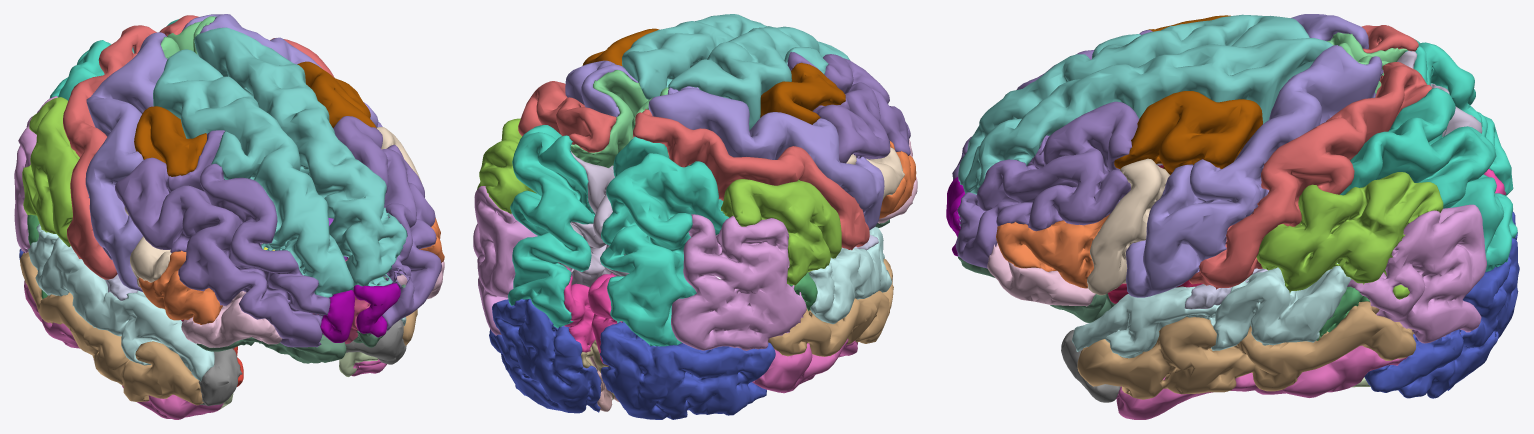
The model's file is cortex.lod1.glb.
3 renders of one model, left to right at view 1: azimuth 30°, elevation 25°; view 2: azimuth 150°, elevation 25°; view 3: azimuth 270°, elevation 25°, orthographic. The views are drawn at different scales.
Parts seen in each view (by area): view 1: anterior-part-of-middle-frontal-gyrus-r, superior-frontal-gyrus-r, superior-frontal-gyrus-l, precentral-gyrus-r, superior-temporal-gyrus-r, anterior-part-of-middle-frontal-gyrus-l, middle-temporal-gyrus-r, postcentral-gyrus-r, supramarginal-gyrus-r, posterior-part-of-middle-frontal-gyrus-r, triangular-part-of-inferior-frontal-gyrus-r, orbital-part-of-inferior-frontal-gyrus-r (+16 smaller); view 2: superior-parietal-lobule-r, inferior-parietal-lobule-r, superior-parietal-lobule-l, lateral-occipital-gyrus-r, precentral-gyrus-r, lateral-occipital-gyrus-l, postcentral-gyrus-r, superior-frontal-gyrus-r, supramarginal-gyrus-r, anterior-part-of-middle-frontal-gyrus-r, superior-frontal-gyrus-l, inferior-parietal-lobule-l (+16 smaller); view 3: precentral-gyrus-l, superior-frontal-gyrus-l, middle-temporal-gyrus-l, anterior-part-of-middle-frontal-gyrus-l, postcentral-gyrus-l, supramarginal-gyrus-l, superior-temporal-gyrus-l, superior-parietal-lobule-l, inferior-parietal-lobule-l, superior-frontal-gyrus-r, lateral-occipital-gyrus-l, posterior-part-of-middle-frontal-gyrus-l (+13 smaller).
Boxes of the visible parts, x1,y1,x2,y2 form: anterior-part-of-middle-frontal-gyrus-r: (115, 130, 330, 347); superior-frontal-gyrus-r: (153, 49, 353, 297); superior-frontal-gyrus-l: (194, 27, 407, 286); precentral-gyrus-r: (85, 32, 167, 291); superior-temporal-gyrus-r: (28, 224, 214, 381); anterior-part-of-middle-frontal-gyrus-l: (333, 116, 441, 330); middle-temporal-gyrus-r: (20, 252, 203, 405); postcentral-gyrus-r: (63, 25, 156, 279); supramarginal-gyrus-r: (22, 97, 79, 246); posterior-part-of-middle-frontal-gyrus-r: (134, 106, 206, 176); triangular-part-of-inferior-frontal-gyrus-r: (138, 250, 222, 324); orbital-part-of-inferior-frontal-gyrus-r: (181, 291, 282, 347); superior-parietal-lobule-r: (600, 136, 728, 346); inferior-parietal-lobule-r: (671, 214, 807, 350); superior-parietal-lobule-l: (508, 125, 595, 328); lateral-occipital-gyrus-r: (600, 321, 775, 419); precentral-gyrus-r: (648, 86, 884, 230); lateral-occipital-gyrus-l: (489, 299, 601, 413); postcentral-gyrus-r: (633, 109, 869, 250); superior-frontal-gyrus-r: (668, 26, 850, 130); supramarginal-gyrus-r: (721, 179, 841, 285); anterior-part-of-middle-frontal-gyrus-r: (787, 52, 910, 163); superior-frontal-gyrus-l: (622, 14, 767, 99); inferior-parietal-lobule-l: (473, 186, 537, 335); precentral-gyrus-l: (1126, 45, 1383, 297); superior-frontal-gyrus-l: (962, 38, 1333, 194); middle-temporal-gyrus-l: (1077, 301, 1416, 399); anterior-part-of-middle-frontal-gyrus-l: (955, 101, 1139, 268); postcentral-gyrus-l: (1189, 62, 1432, 289); supramarginal-gyrus-l: (1256, 172, 1443, 299); superior-temporal-gyrus-l: (1072, 263, 1351, 358); superior-parietal-lobule-l: (1340, 88, 1517, 271); inferior-parietal-lobule-l: (1347, 204, 1486, 343); superior-frontal-gyrus-r: (958, 14, 1309, 185); lateral-occipital-gyrus-l: (1364, 237, 1519, 398); posterior-part-of-middle-frontal-gyrus-l: (1114, 91, 1262, 174).
Size of the model in its own units: 0.1377 by 0.1256 by 0.1878.
